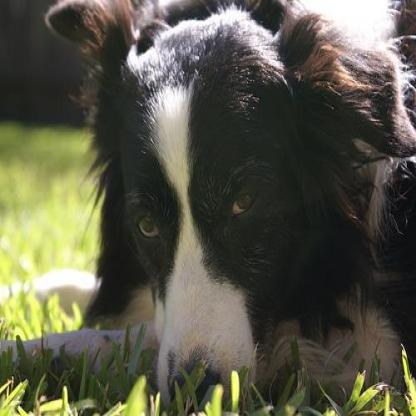Border_collie: (0, 0, 414, 410)
